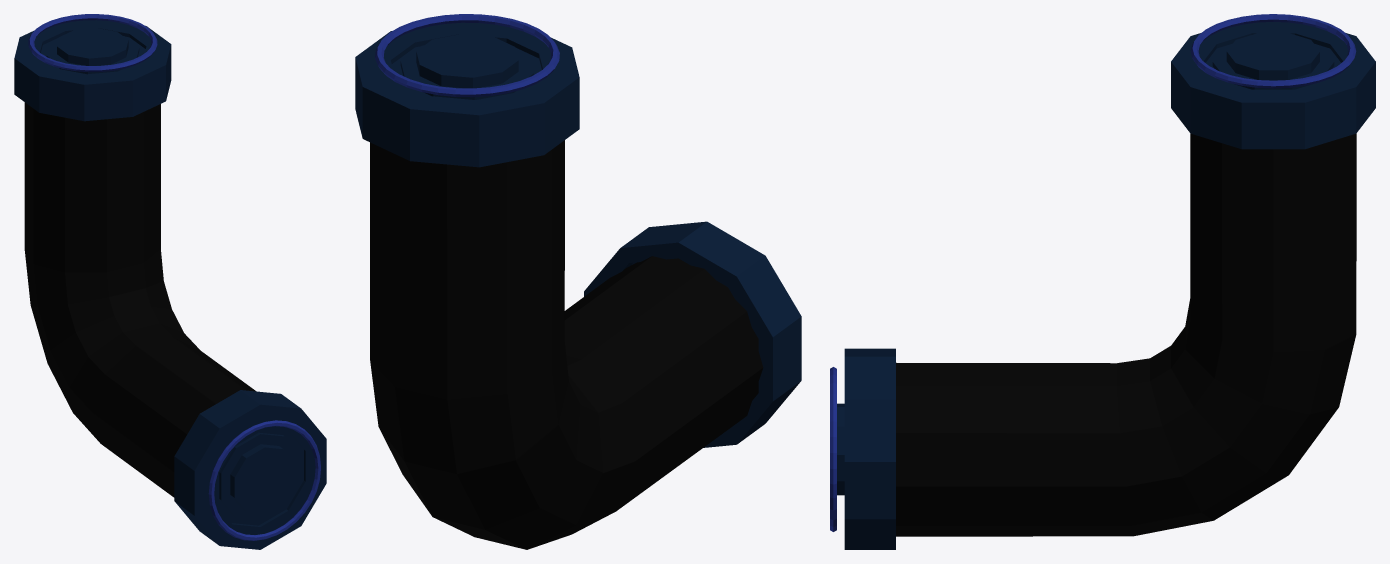
The model's file is st3_pipe_L1 (1).fbx.
3 views of the same model, side by side, from view 1: azimuth 30°, elevation 25°; view 2: azimuth 150°, elevation 25°; view 3: azimuth 270°, elevation 25° (orthographic). The views are drawn at different scales.
Visible parts, largest first — view 1: curve_SL, curve_SL_etc1, curve_SL_ring1; view 2: curve_SL, curve_SL_etc1, curve_SL_ring1; view 3: curve_SL, curve_SL_etc1, curve_SL_ring1.
Part boxes in pixels (x1,y1,x2,y2): curve_SL: [24, 102, 256, 497]; curve_SL_etc1: [14, 20, 326, 549]; curve_SL_ring1: [28, 14, 320, 540]; curve_SL: [370, 140, 763, 549]; curve_SL_etc1: [355, 22, 801, 447]; curve_SL_ring1: [375, 14, 559, 97]; curve_SL: [896, 133, 1356, 536]; curve_SL_etc1: [837, 22, 1375, 549]; curve_SL_ring1: [830, 14, 1356, 531].
Bounding box in the file's own units: 100 × 280 × 280.
